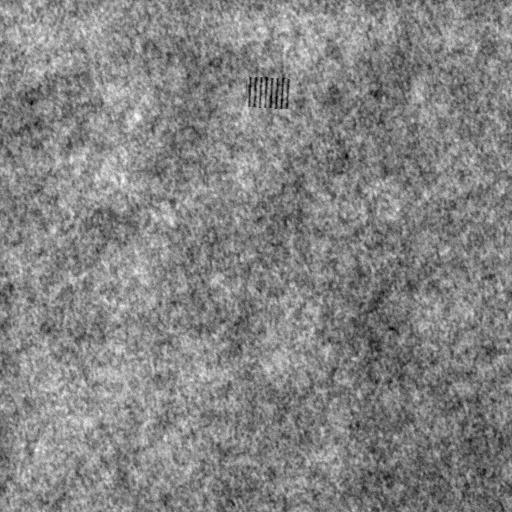DefectTypeB: (247, 76, 290, 110)
